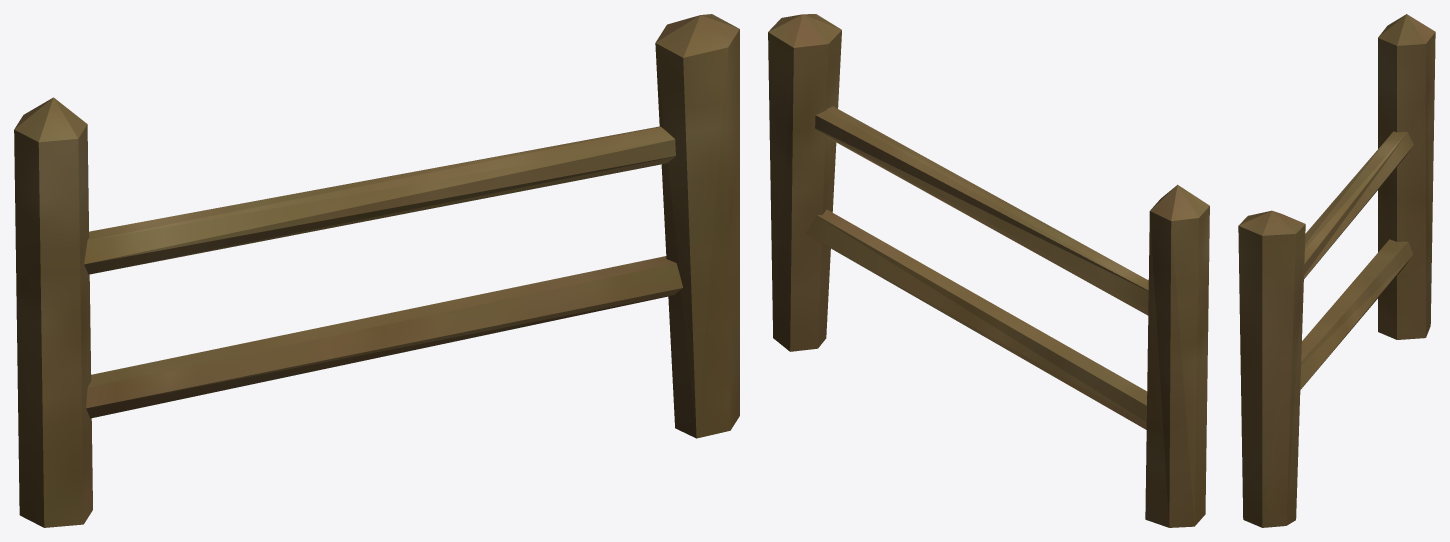
File: fence_01_game.glb
3 views of the same model, side by side, from view 1: azimuth 30°, elevation 25°; view 2: azimuth 150°, elevation 25°; view 3: azimuth 270°, elevation 25° (orthographic). The views are drawn at different scales.
Visible parts, largest first — view 1: geometry_0; view 2: geometry_0; view 3: geometry_0.
Part boxes in pixels (box(x1,y1,x2,y2)): geometry_0: box(14, 14, 739, 527); geometry_0: box(768, 14, 1209, 527); geometry_0: box(1238, 14, 1435, 527).
Size of the model in its own units: 2.21 by 1.45 by 0.8008.
Materials: 1 (1 with a texture image).
